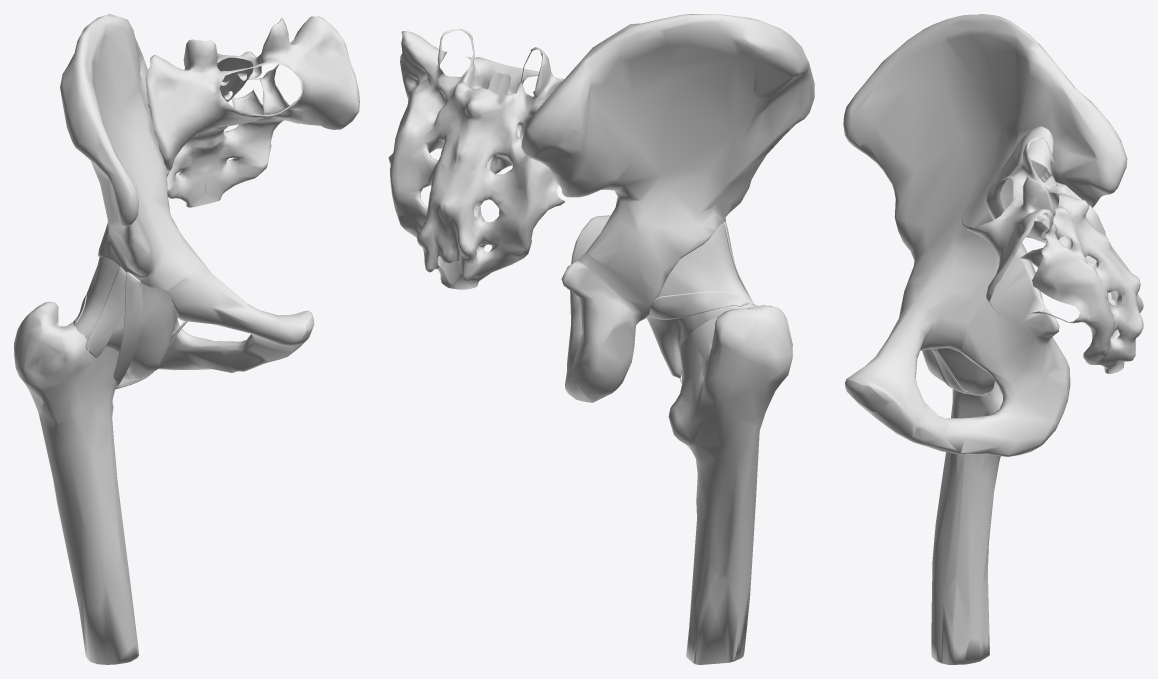
The model's file is quadril.glb.
The picture shows the model from 3 angles, left to right: view 1: azimuth 30°, elevation 25°; view 2: azimuth 150°, elevation 25°; view 3: azimuth 270°, elevation 25°; orthographic projection. The views are drawn at different scales.
Parts seen in each view (by area): view 1: pelve, femur, sacro, capsula, ligamentos; view 2: pelve, sacro, femur, capsula, ligamentos; view 3: pelve, sacro, femur, capsula, ligamentos.
Part boxes in pixels (x1,y1,x2,y2): pelve: [60, 14, 314, 372]; femur: [14, 301, 138, 664]; sacro: [145, 16, 359, 207]; capsula: [75, 257, 176, 379]; ligamentos: [73, 266, 187, 389]; pelve: [521, 14, 814, 402]; sacro: [388, 29, 564, 289]; femur: [668, 303, 792, 664]; capsula: [646, 222, 753, 378]; ligamentos: [648, 222, 752, 383]; pelve: [843, 14, 1127, 456]; sacro: [962, 126, 1143, 373]; femur: [931, 381, 1002, 664]; capsula: [922, 348, 994, 394]; ligamentos: [928, 348, 989, 395].
Size of the model in its own units: 0.2098 by 0.3519 by 0.1511.
Materials: 5 (1 with a texture image).
